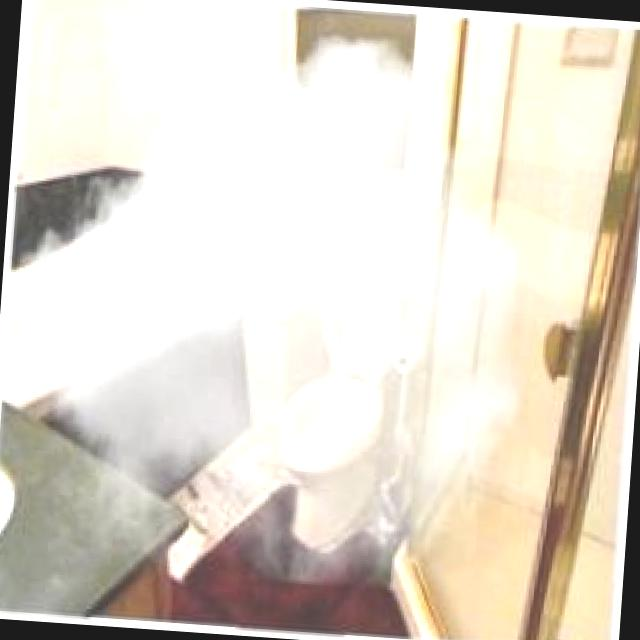smoke: (136, 118, 498, 384)
